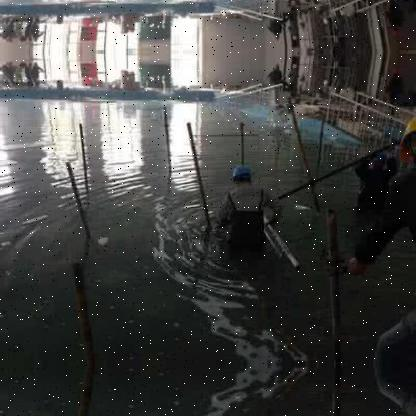helmet: (228, 161, 254, 190)
